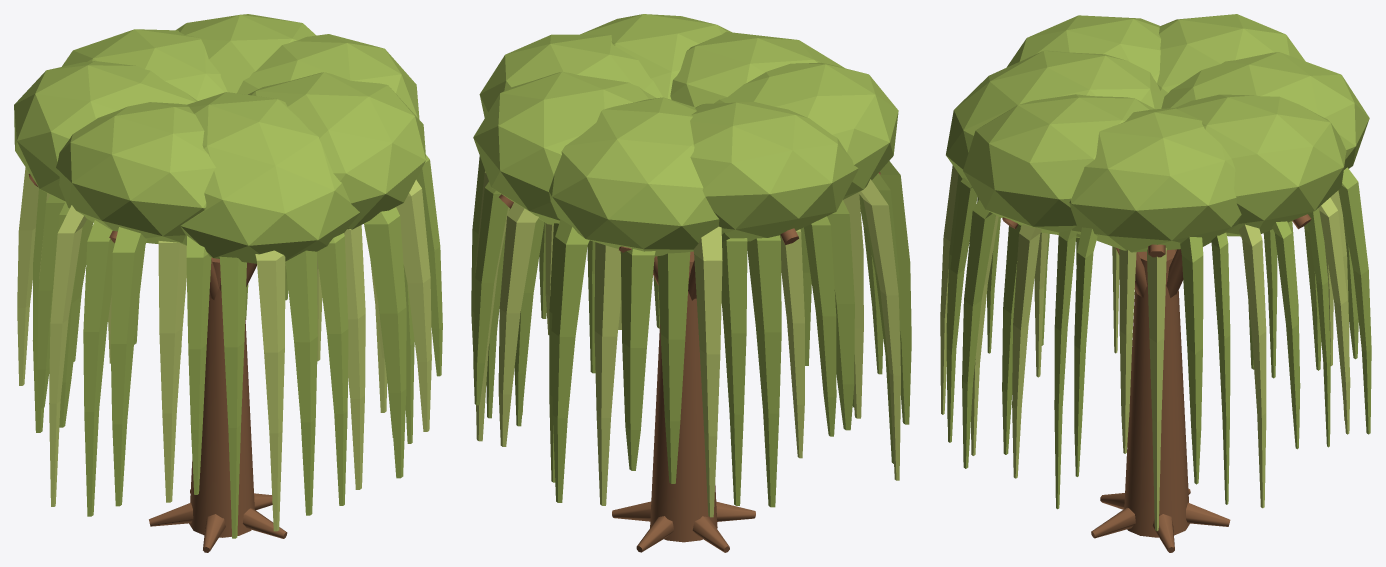
Rendered from tree_willow.glb.
The picture shows the model from 3 angles, left to right: view 1: azimuth 30°, elevation 25°; view 2: azimuth 150°, elevation 25°; view 3: azimuth 270°, elevation 25°; orthographic projection.
Parts seen in each view (by area): view 1: Willow_Top_Leaves_5, Willow_Top_Leaves_4, Willow_Top_Leaves_6, Willow_Top_Leaves_3, Willow_Trunk, Willow_Top_Leaves_0, Willow_Drooping_Leaves_28, Willow_Top_Leaves_2, Willow_Drooping_Leaves_20, Willow_Drooping_Leaves_19, Willow_Top_Leaves_1, Willow_Drooping_Leaves_25 (+18 smaller); view 2: Willow_Top_Leaves_2, Willow_Top_Leaves_3, Willow_Top_Leaves_1, Willow_Top_Leaves_4, Willow_Trunk, Willow_Top_Leaves_5, Willow_Top_Leaves_0, Willow_Drooping_Leaves_08, Willow_Drooping_Leaves_14, Willow_Drooping_Leaves_12, Willow_Drooping_Leaves_10, Willow_Top_Leaves_6 (+26 smaller); view 3: Willow_Top_Leaves_0, Willow_Top_Leaves_6, Willow_Top_Leaves_1, Willow_Trunk, Willow_Top_Leaves_5, Willow_Top_Leaves_2, Willow_Top_Leaves_3, Willow_Top_Leaves_4, Willow_Drooping_Leaves_28, Willow_Drooping_Leaves_01, Willow_Drooping_Leaves_03, Willow_Drooping_Leaves_08 (+25 smaller).
Part boxes in pixels (x1=…): Willow_Top_Leaves_5: x1=180, y1=92, x2=359, y2=263; Willow_Top_Leaves_4: x1=56, y1=102, x2=215, y2=245; Willow_Top_Leaves_6: x1=248, y1=72, x2=426, y2=229; Willow_Top_Leaves_3: x1=14, y1=61, x2=197, y2=202; Willow_Trunk: x1=189, y1=257, x2=254, y2=537; Willow_Top_Leaves_0: x1=237, y1=34, x2=419, y2=119; Willow_Drooping_Leaves_28: x1=364, y1=207, x2=406, y2=478; Willow_Top_Leaves_2: x1=62, y1=29, x2=227, y2=100; Willow_Drooping_Leaves_20: x1=110, y1=227, x2=147, y2=506; Willow_Drooping_Leaves_19: x1=83, y1=220, x2=114, y2=516; Willow_Top_Leaves_1: x1=176, y1=14, x2=316, y2=93; Willow_Drooping_Leaves_25: x1=285, y1=250, x2=317, y2=515; Willow_Top_Leaves_2: x1=549, y1=97, x2=729, y2=256; Willow_Top_Leaves_3: x1=690, y1=102, x2=858, y2=241; Willow_Top_Leaves_1: x1=473, y1=72, x2=656, y2=224; Willow_Top_Leaves_4: x1=714, y1=62, x2=898, y2=199; Willow_Trunk: x1=650, y1=251, x2=717, y2=542; Willow_Top_Leaves_5: x1=670, y1=31, x2=844, y2=107; Willow_Top_Leaves_0: x1=479, y1=34, x2=662, y2=117; Willow_Drooping_Leaves_08: x1=551, y1=219, x2=589, y2=502; Willow_Drooping_Leaves_14: x1=747, y1=235, x2=781, y2=507; Willow_Drooping_Leaves_12: x1=693, y1=226, x2=722, y2=517; Willow_Drooping_Leaves_10: x1=620, y1=248, x2=655, y2=470; Willow_Top_Leaves_6: x1=580, y1=14, x2=731, y2=99; Willow_Top_Leaves_0: x1=1069, y1=108, x2=1241, y2=252; Willow_Top_Leaves_6: x1=963, y1=94, x2=1155, y2=237; Willow_Top_Leaves_1: x1=1174, y1=94, x2=1346, y2=236; Willow_Trunk: x1=1124, y1=249, x2=1189, y2=537; Willow_Top_Leaves_5: x1=946, y1=50, x2=1164, y2=193; Willow_Top_Leaves_2: x1=1161, y1=52, x2=1369, y2=169; Willow_Top_Leaves_3: x1=1157, y1=14, x2=1305, y2=96; Willow_Top_Leaves_4: x1=1006, y1=15, x2=1160, y2=82; Willow_Drooping_Leaves_28: x1=962, y1=199, x2=995, y2=468; Willow_Drooping_Leaves_01: x1=1180, y1=237, x2=1203, y2=484; Willow_Drooping_Leaves_03: x1=1239, y1=224, x2=1266, y2=508; Willow_Drooping_Leaves_08: x1=1338, y1=167, x2=1371, y2=434.
Bounding box in the file's own units: 5.06 × 5.67 × 4.92.
